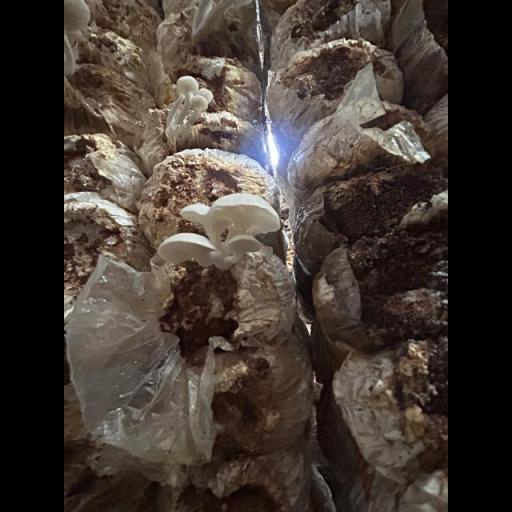White Oyster Mushroom: (158, 192, 280, 271), (167, 74, 211, 136)
